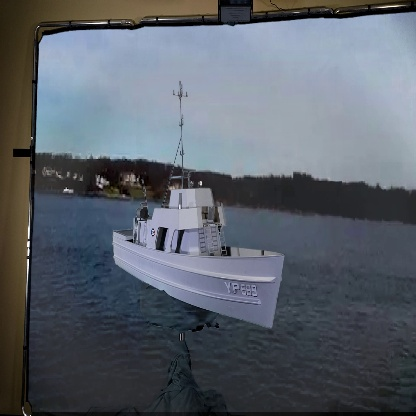YP689: (110, 76, 284, 329)
